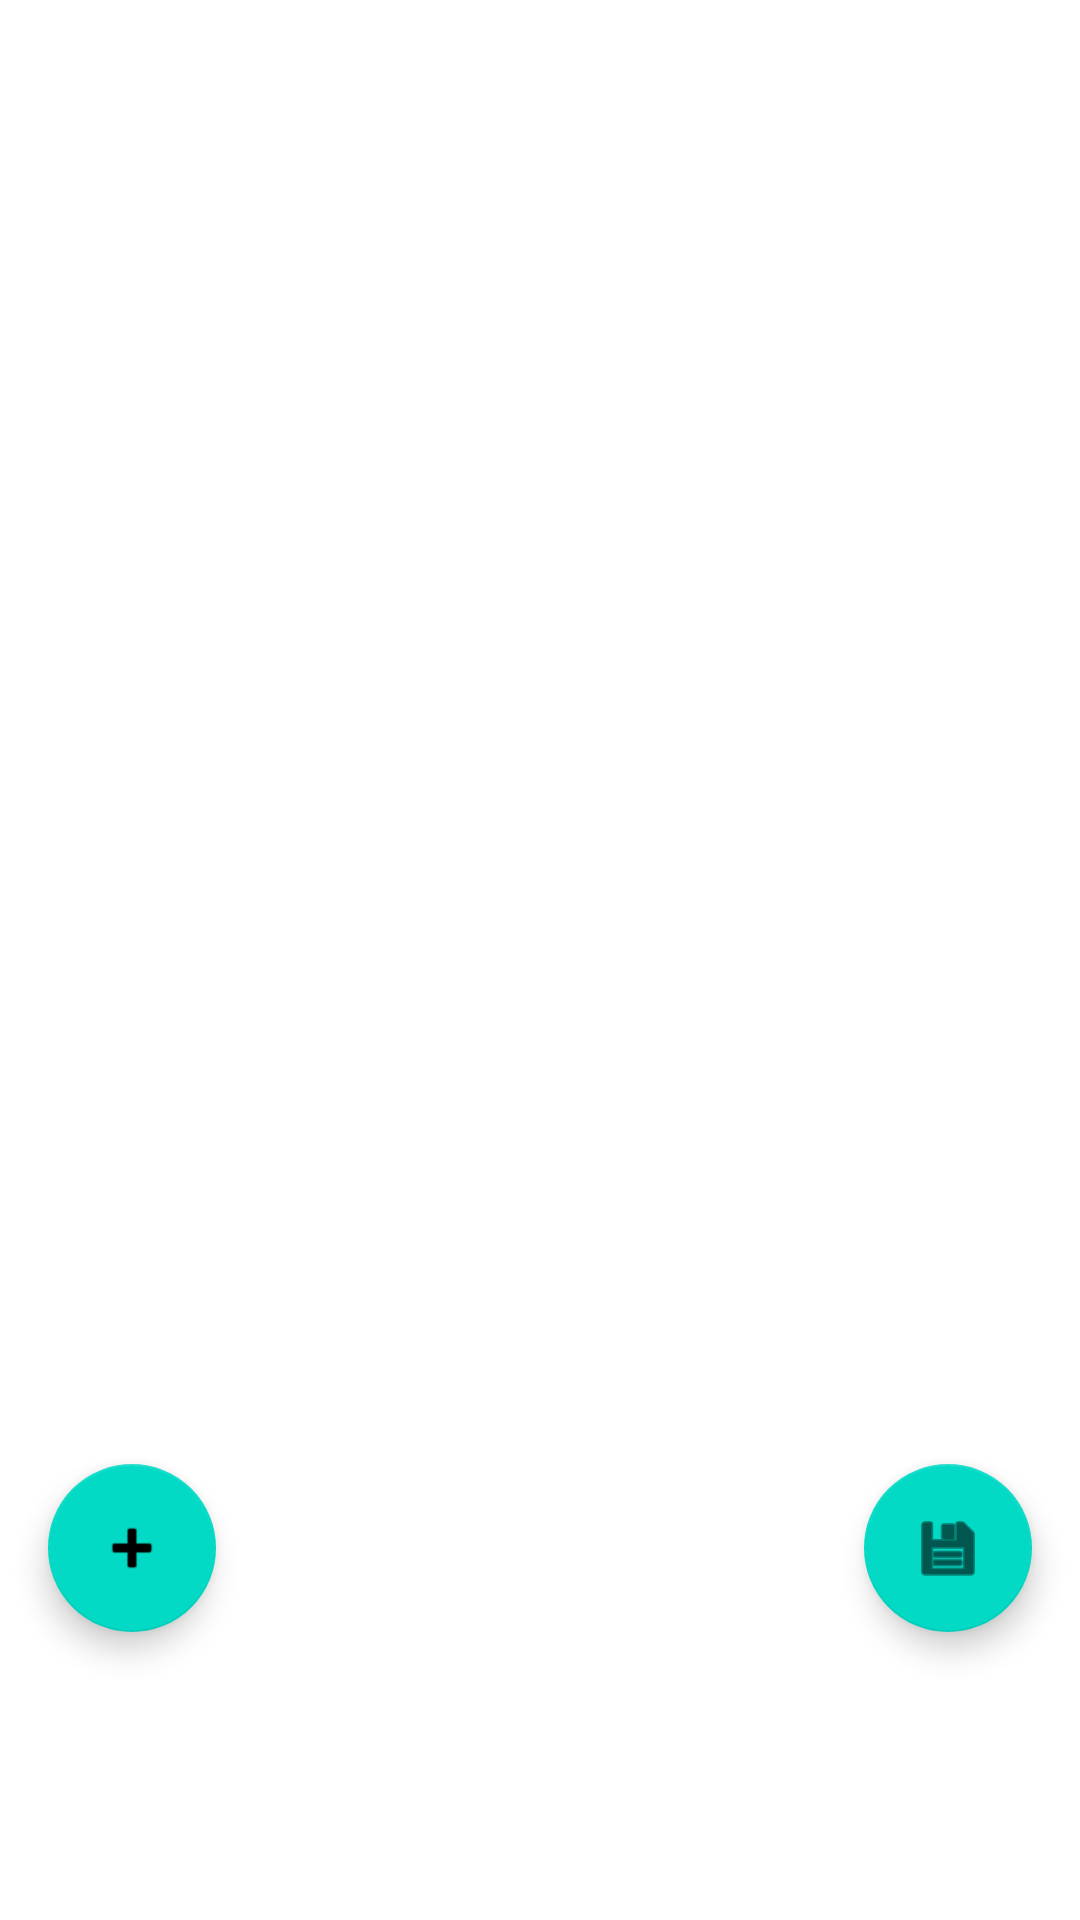

Named icons in this screenshot (1080px x 1920px) and their bounding boxes, [left=x1, top=y1, right=x2, bottom=y2]:
New item: [left=48, top=1464, right=216, bottom=1632]
Save values: [left=864, top=1464, right=1032, bottom=1632]
